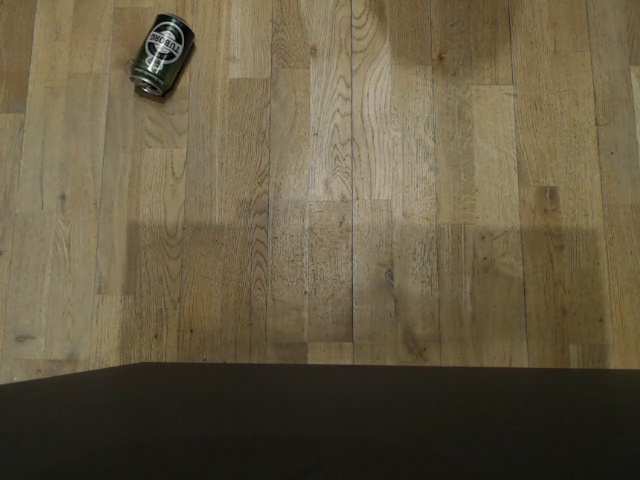beer: (128, 11, 197, 99)
